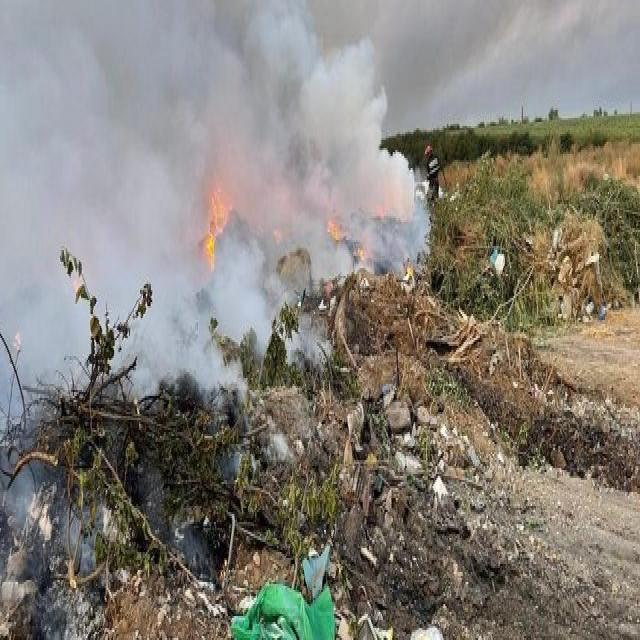Fire: (202, 174, 234, 272)
Smoke: (0, 0, 428, 429)
